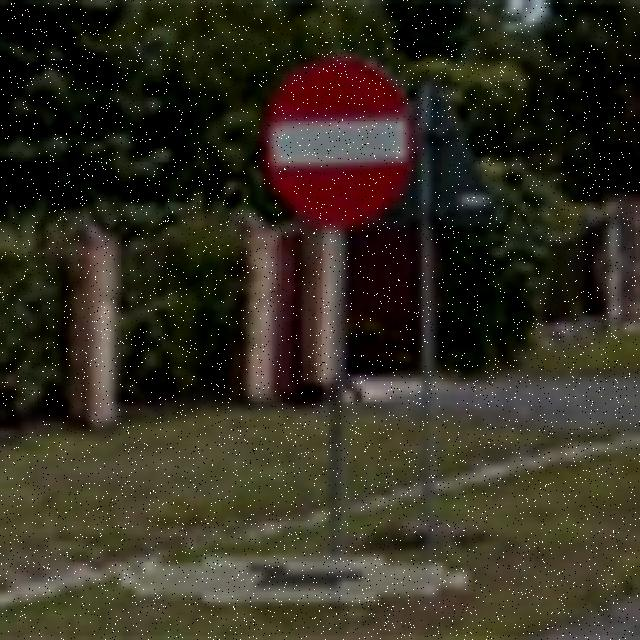Zakaz wjazdu: (259, 54, 419, 232)
